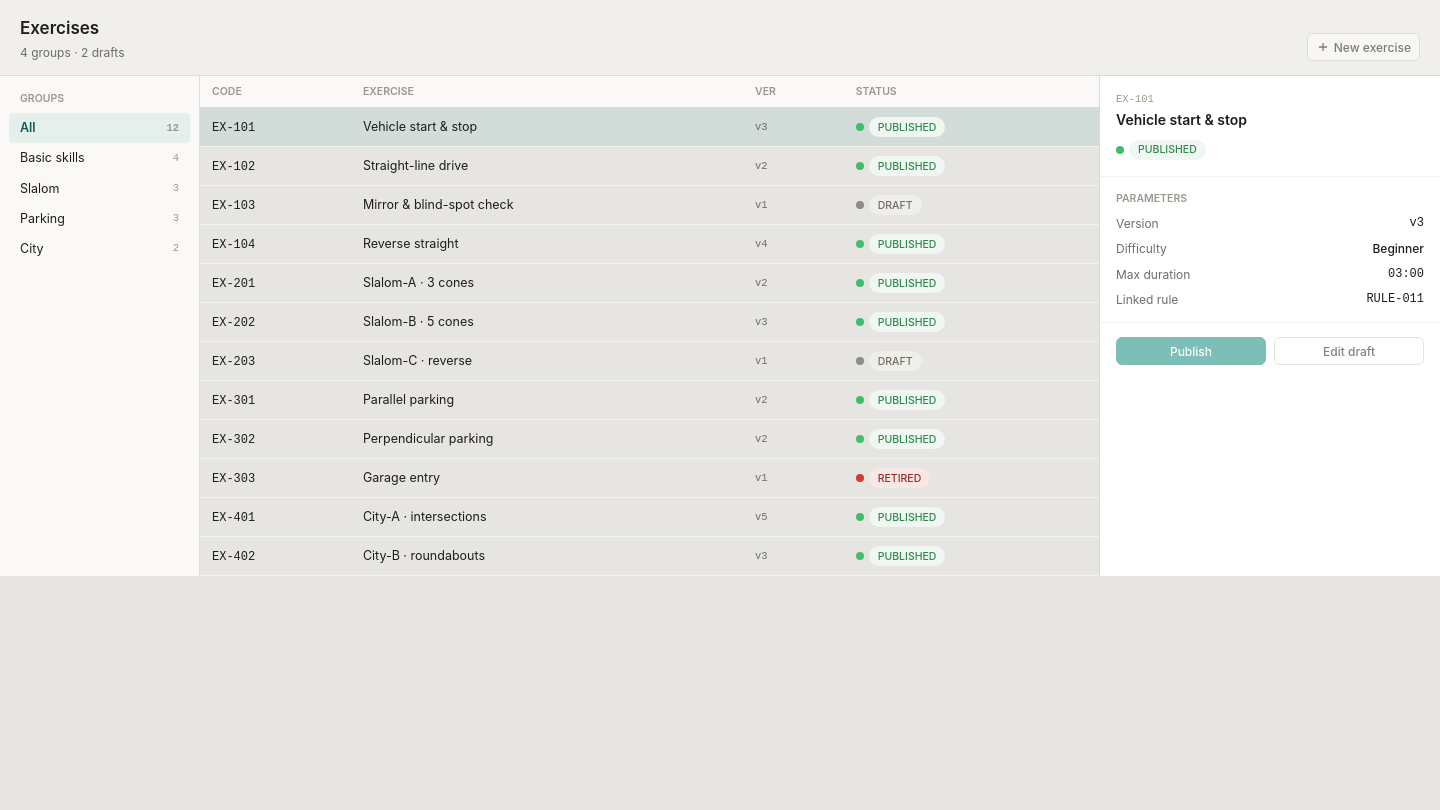
Test: ExercisesScreen › selects a row via the keyboard-accessible primary-cell button (R2 pattern)
Click the button "EX-202" at (234, 323), box left=212, top=314, right=255, bottom=332
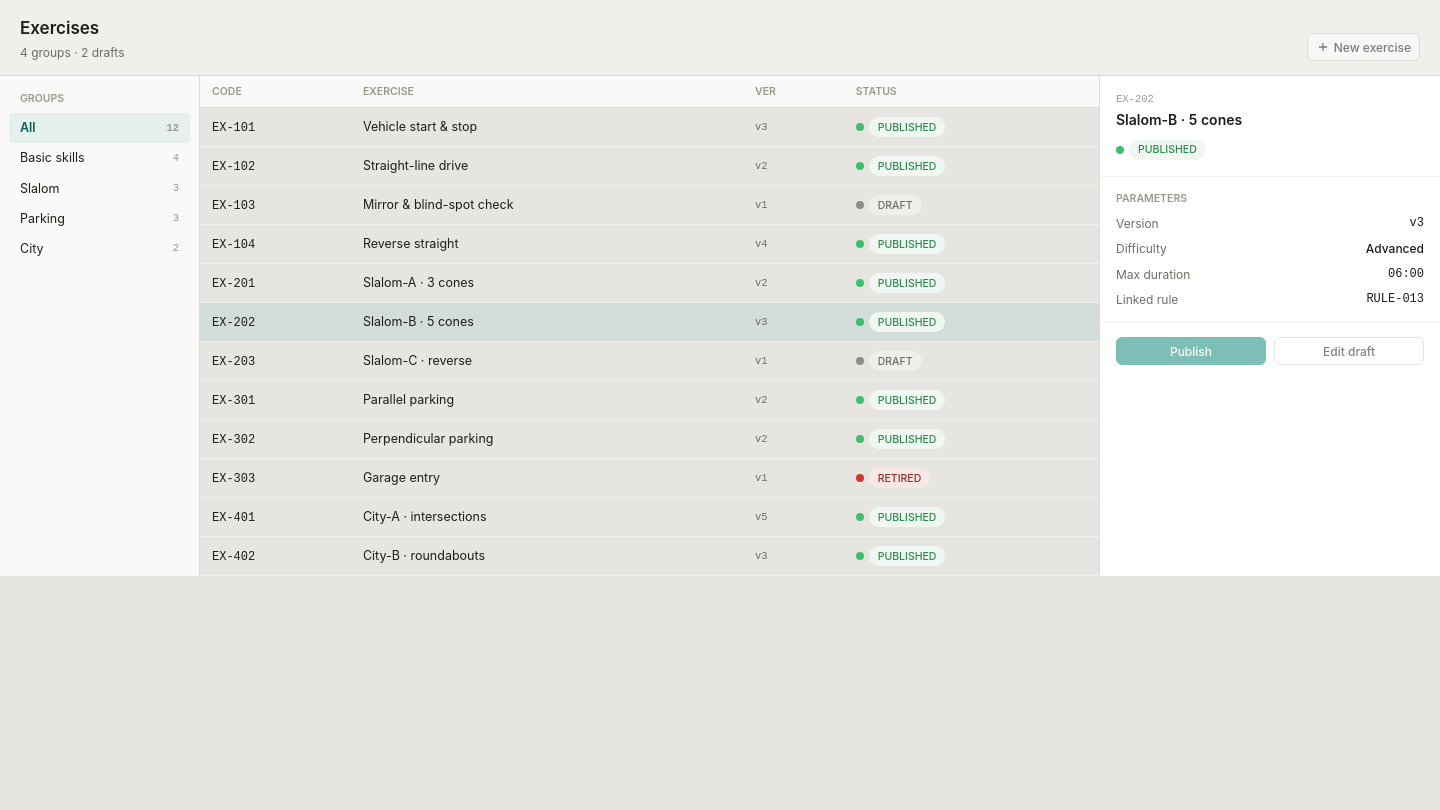
Expected: the element named "Exercise EX-202" is shown, left=1100, top=76, right=1439, bottom=576
